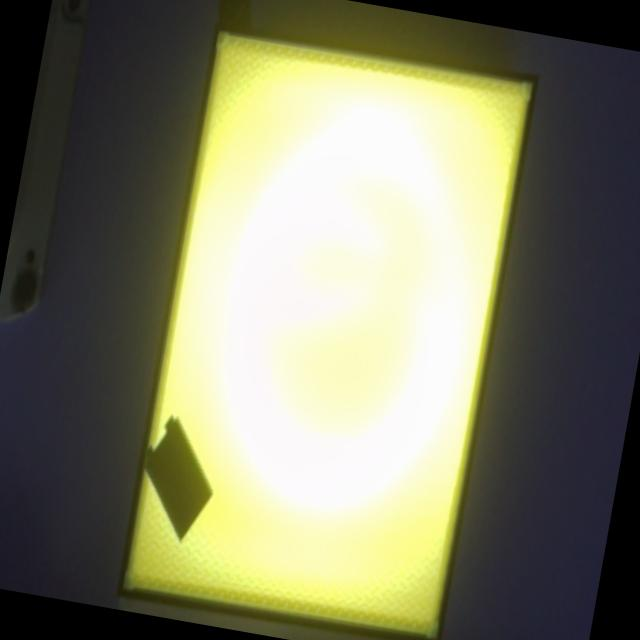bateria: (143, 414, 213, 544)
mesa: (116, 20, 538, 640)
